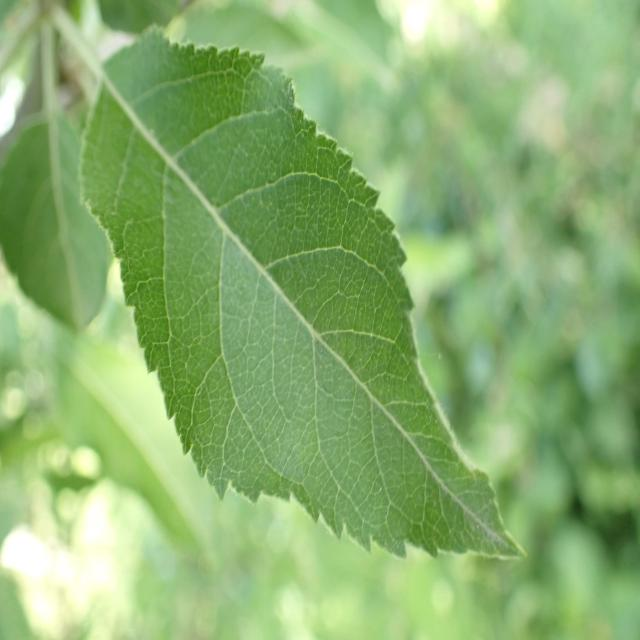healthy: (81, 26, 527, 562), (1, 110, 114, 332)
